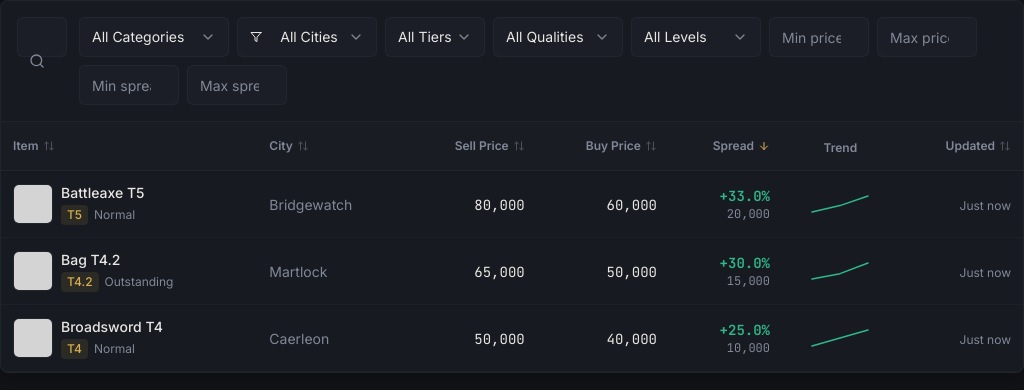
Test: PriceTable — ordenação › ordena por nome do item
The width and height of the screenshot is (1024, 390).
What coordinates should you click on to do the following:
click the button "Item"
I would click on:
 (34, 146)
Its box is [13,138,54,154].
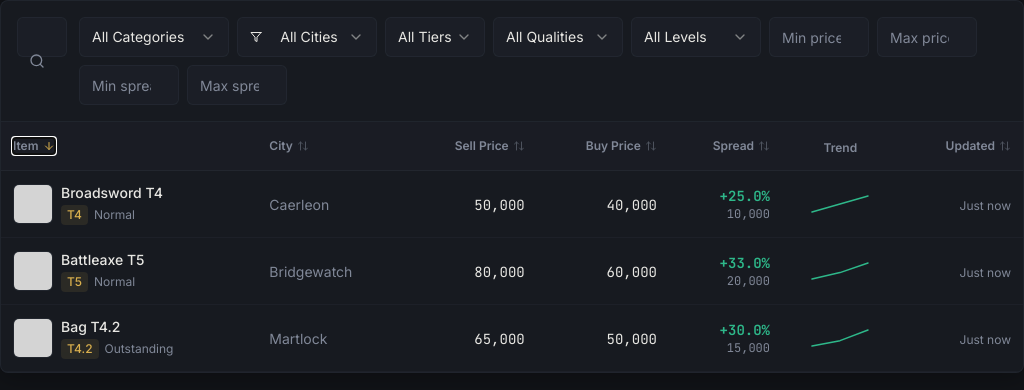
Expected: the text "Broadsword T4" is shown, [61,183,163,203]
Expected: the text "Battleaxe T5" is shown, [61,250,144,270]
